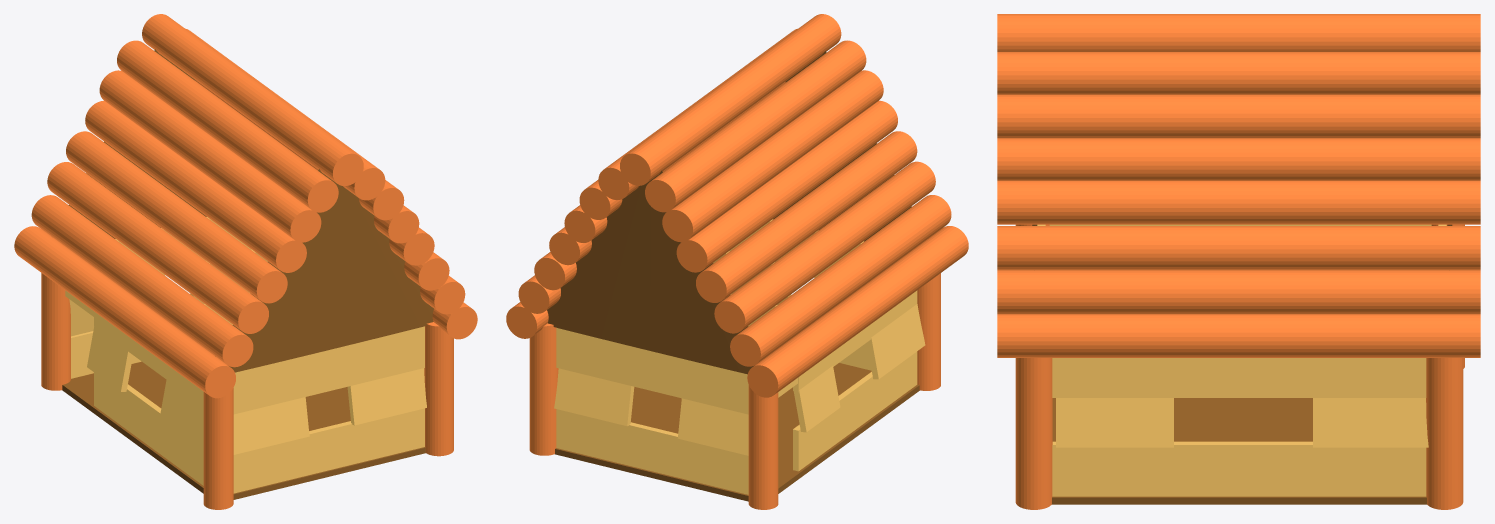
Rendered from house.fbx.
The picture shows the model from 3 angles, left to right: view 1: azimuth 30°, elevation 25°; view 2: azimuth 150°, elevation 25°; view 3: azimuth 270°, elevation 25°; orthographic projection. The views are drawn at different scales.
Parts seen in each view (by area): view 1: Cone.001; view 2: Cone.001; view 3: Cone.001.
Part boxes in pixels (<box>): Cone.001: <box>14,14,477,509</box>; Cone.001: <box>506,14,968,509</box>; Cone.001: <box>997,14,1480,509</box>.
Size of the model in its own units: 701 by 817 by 850.
